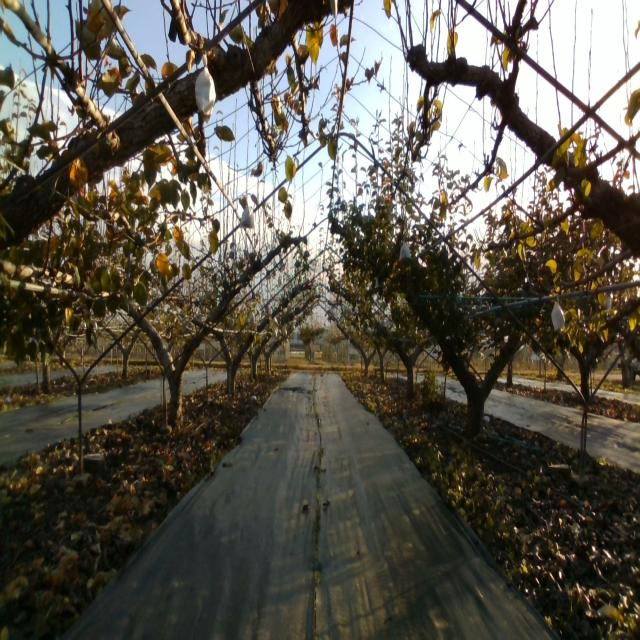pearbags: (194, 53, 217, 123), (552, 300, 566, 330), (239, 206, 255, 230), (399, 241, 411, 262)
